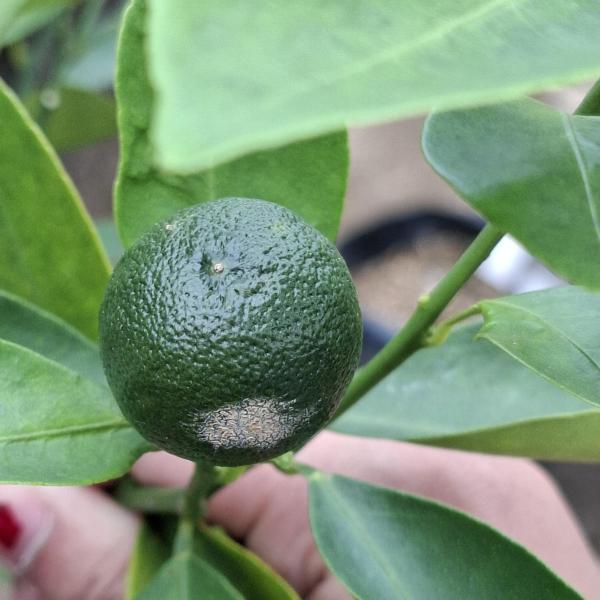Scab: (91, 187, 368, 483)
